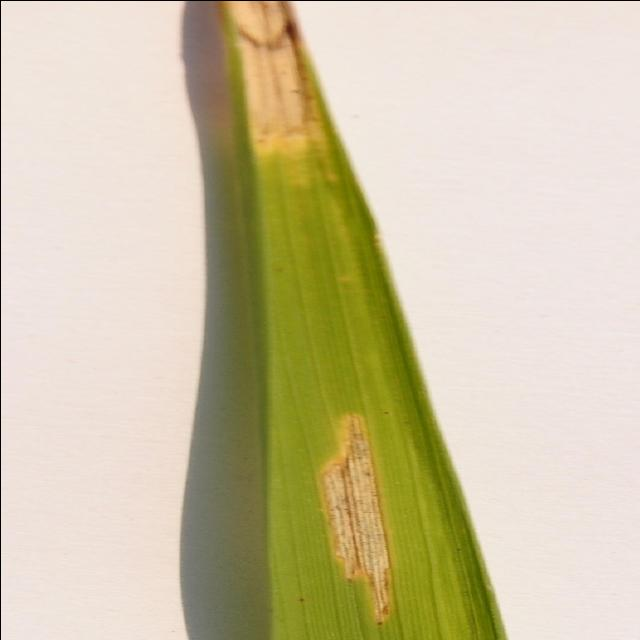Bacterial leaf blight: (294, 386, 420, 628), (207, 0, 348, 165)
